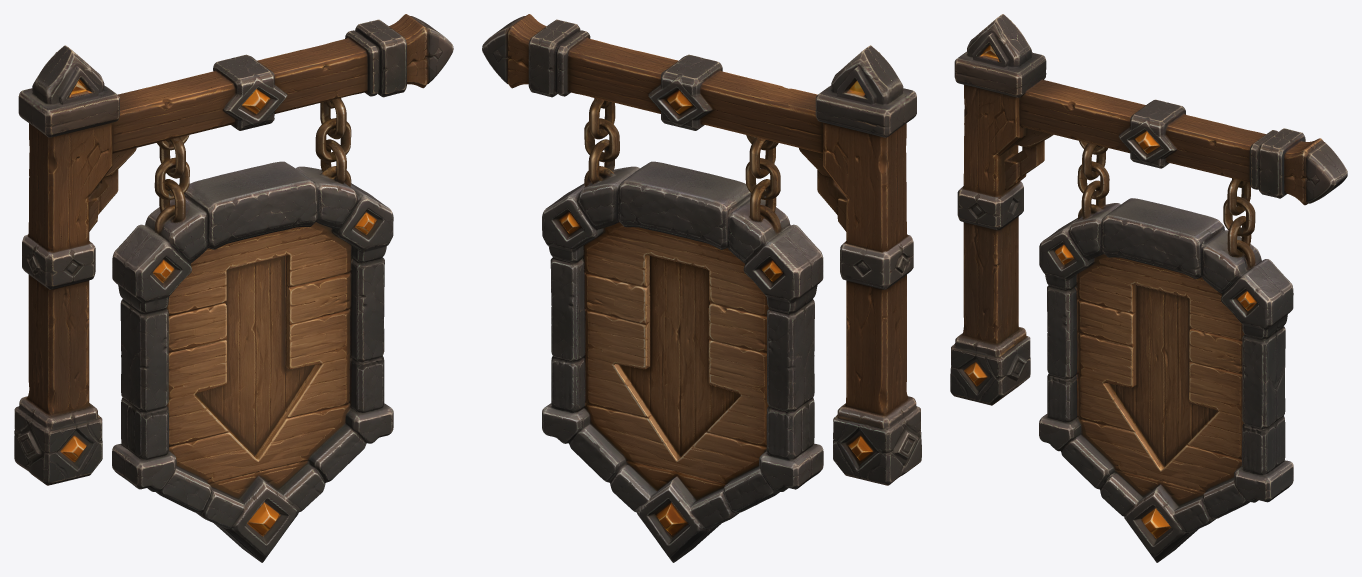
The model's file is Meshy_AI_Medieval_Hanging_Arro_0804004515_texture.glb.
The picture shows the model from 3 angles, left to right: view 1: azimuth 30°, elevation 25°; view 2: azimuth 150°, elevation 25°; view 3: azimuth 330°, elevation 25°; orthographic projection. The views are drawn at different scales.
Visible parts, largest first — view 1: mesh_node; view 2: mesh_node; view 3: mesh_node.
Part boxes in pixels (x1,y1,x2,y2): mesh_node: (14, 14, 453, 562); mesh_node: (482, 14, 921, 562); mesh_node: (950, 14, 1347, 562).
Bounding box in the file's own units: 1.51 × 1.9 × 0.2464.
Materials: 1 (1 with a texture image).
